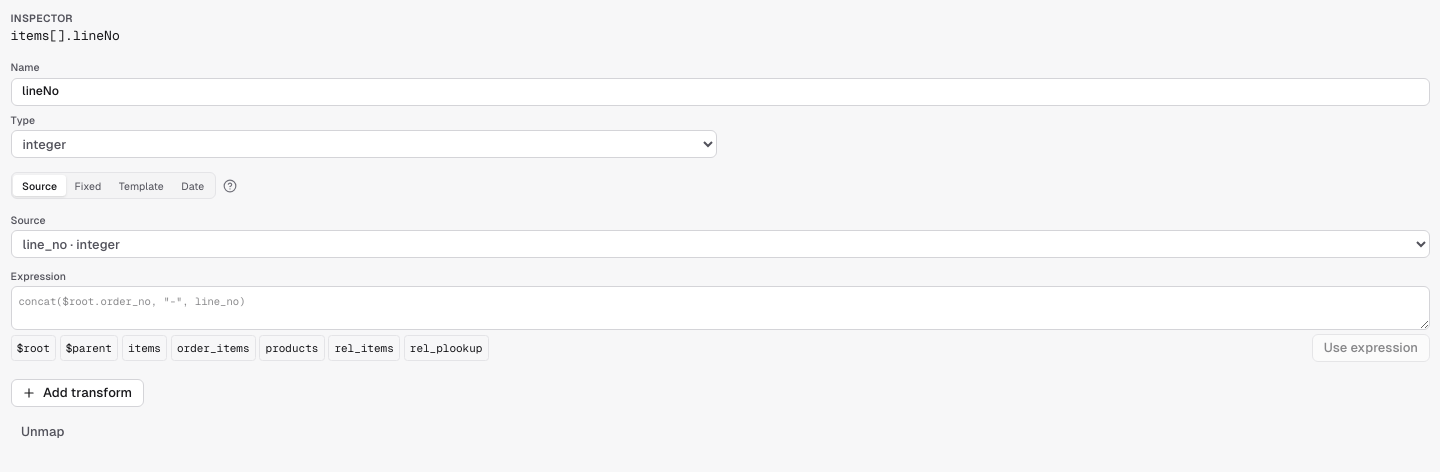
Test case: ComposerInspector › checks an expression as it is typed: the server says why, Use expression waits for a fix
The width and height of the screenshot is (1440, 472).
Type "\"paid_in_out::\" + $doc.id" into the text box labelled "Expression". click: (720, 308)
box: [10,286,1430,330]
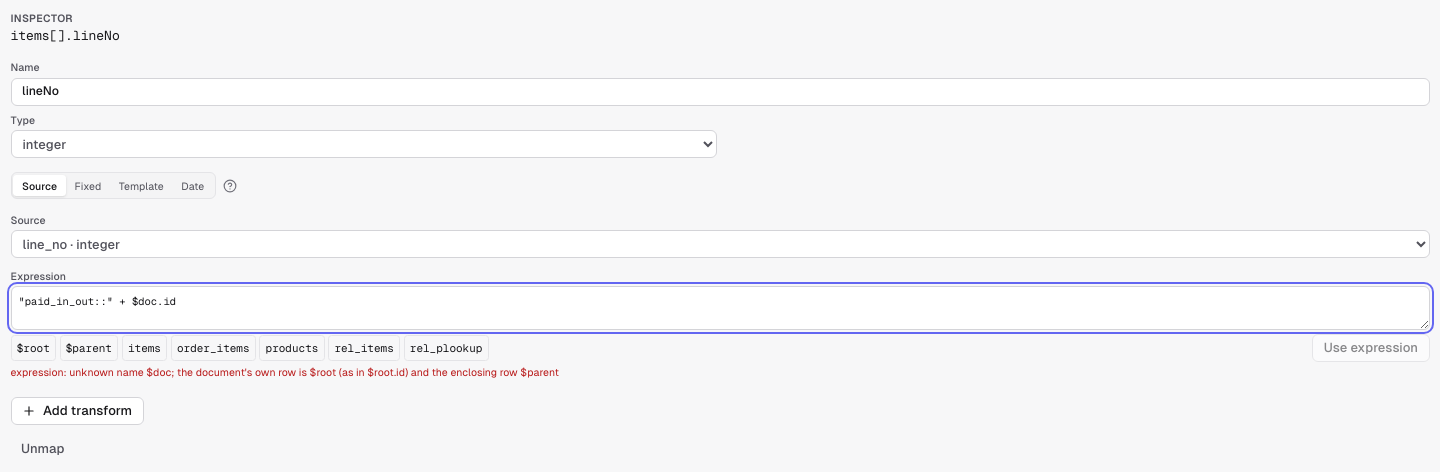
expect the button "Use expression" is disabled: met, box [1312,334,1430,362]
expect the message shows "unknown name $doc; the document's own row is $root": met, box [10,366,559,378]
Replace the text in the text box labelled "Expression" with "concat(\"paid_in_out::\", $root.order_id)". click: (720, 308)
box: [10,286,1430,330]
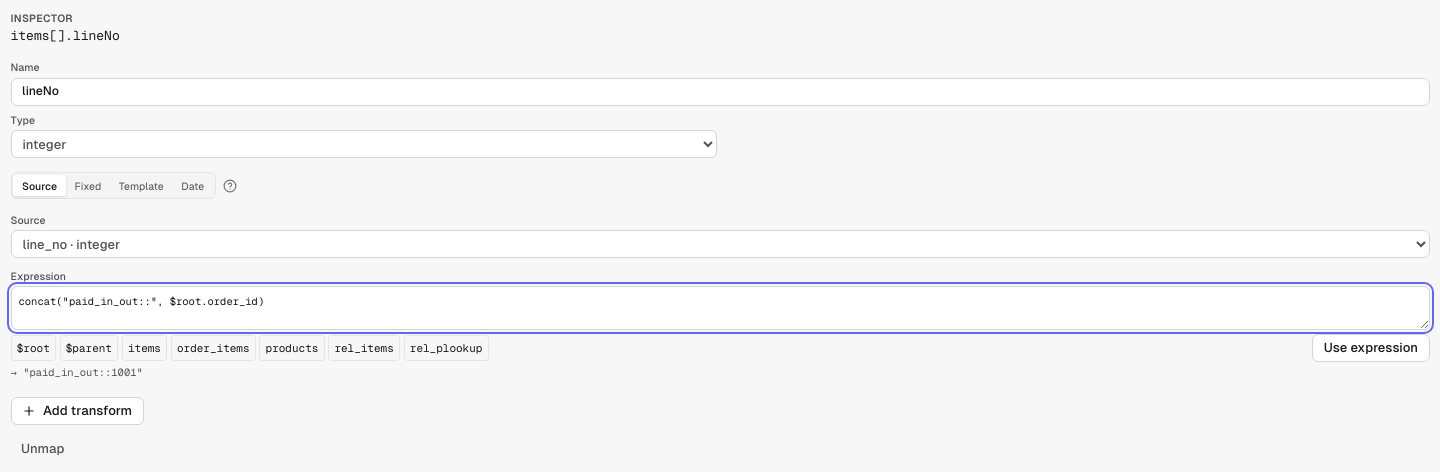
expect the text named "Value for the first sample document" reads "→ \"paid_in_out::1001\"": met, box [10,365,143,379]
expect the button "Use expression" is enabled: met, box [1312,334,1430,362]
